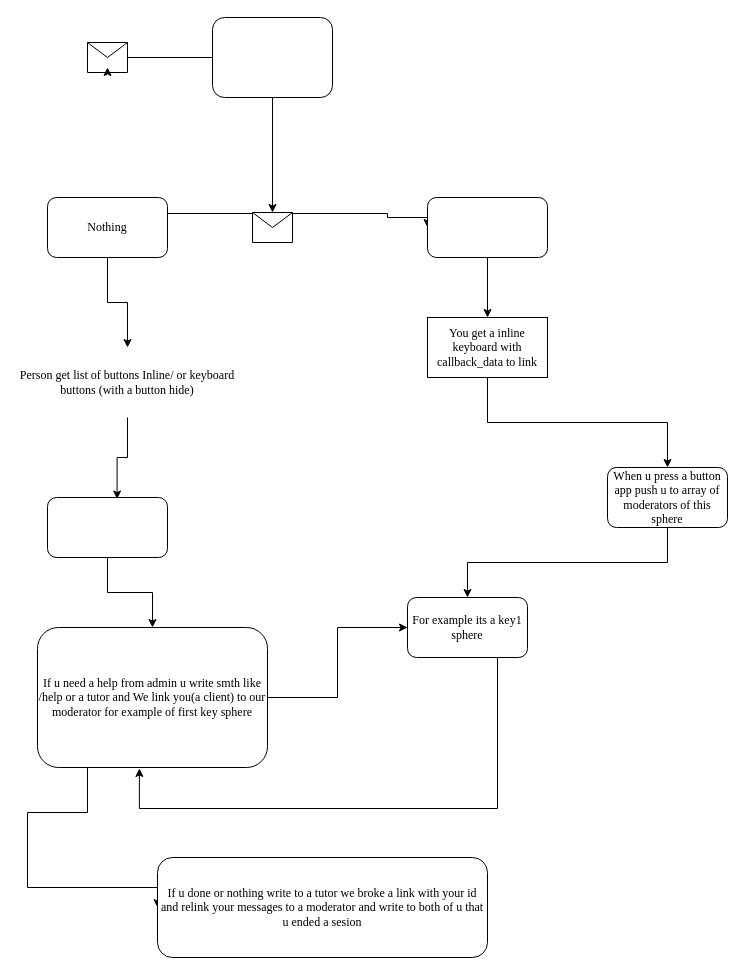
Some shapes in this 745 by 975 pixel diagram are drawn without their labels. The shapes that lost their labels are listed below. From the top down, each one's box as (x1, y1, x2, y2) in pixels, then its label:
(212, 16, 332, 98): /start
(426, 196, 548, 258): Moder Code
(46, 496, 168, 558): Bot give to u an algrothm with files audios videos and prbly a test (quiz)
